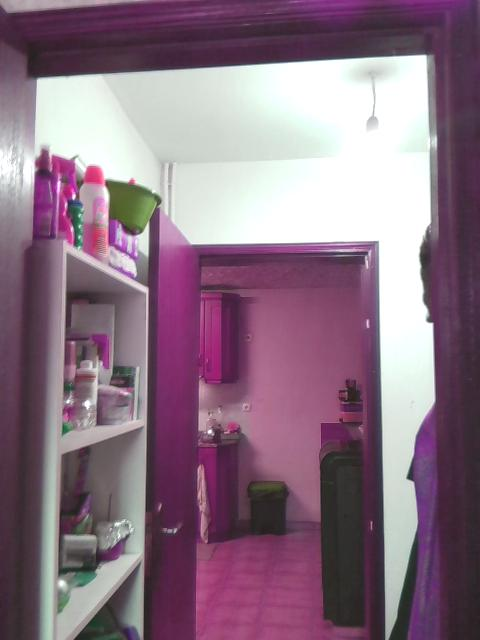open_door: (178, 240, 384, 639)
